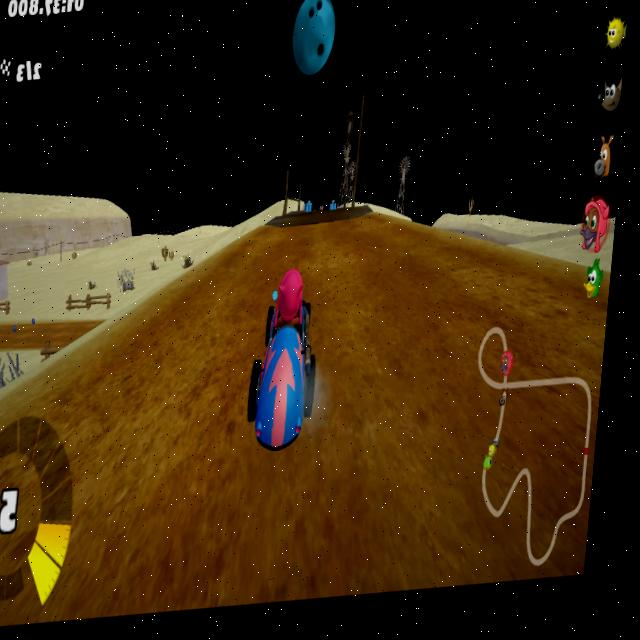bonus: (306, 203, 318, 221), (332, 205, 343, 222)
off_track: (0, 225, 191, 323)
player_kart: (252, 279, 327, 468)
track: (252, 220, 396, 282)
